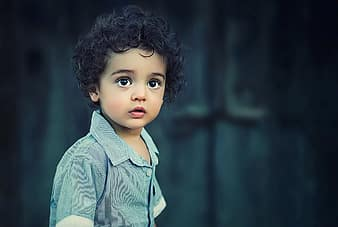person: (48, 10, 184, 227)
